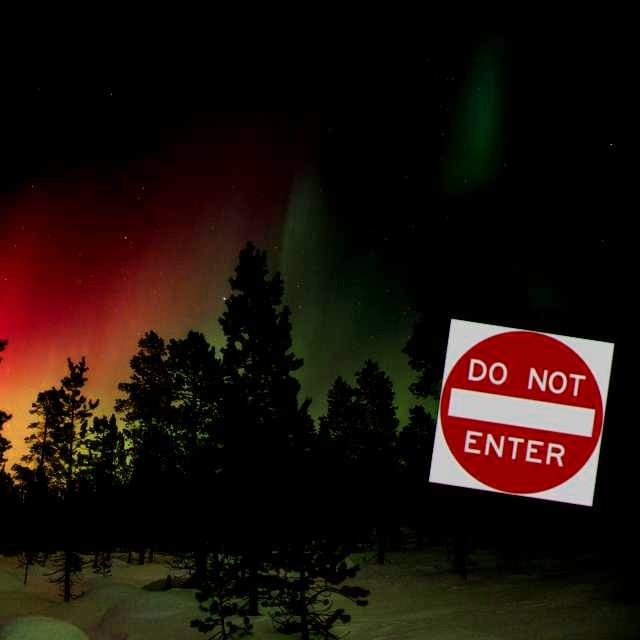DO_NOT_ENTER: (427, 317, 616, 508)
